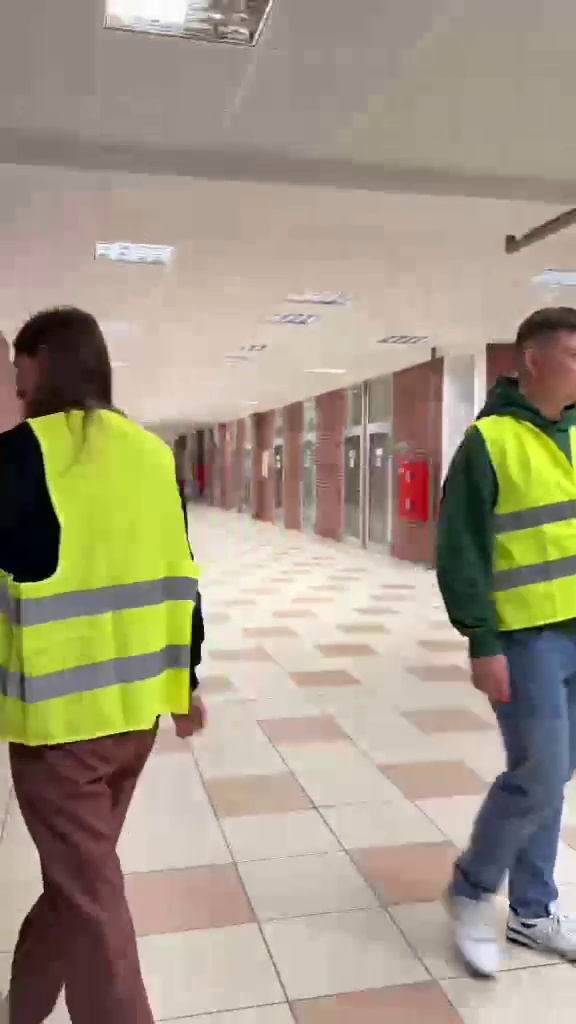vest: (0, 308, 208, 997), (433, 302, 576, 980)
